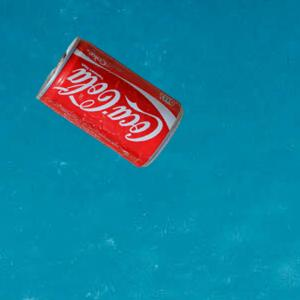can: (36, 36, 186, 170)
